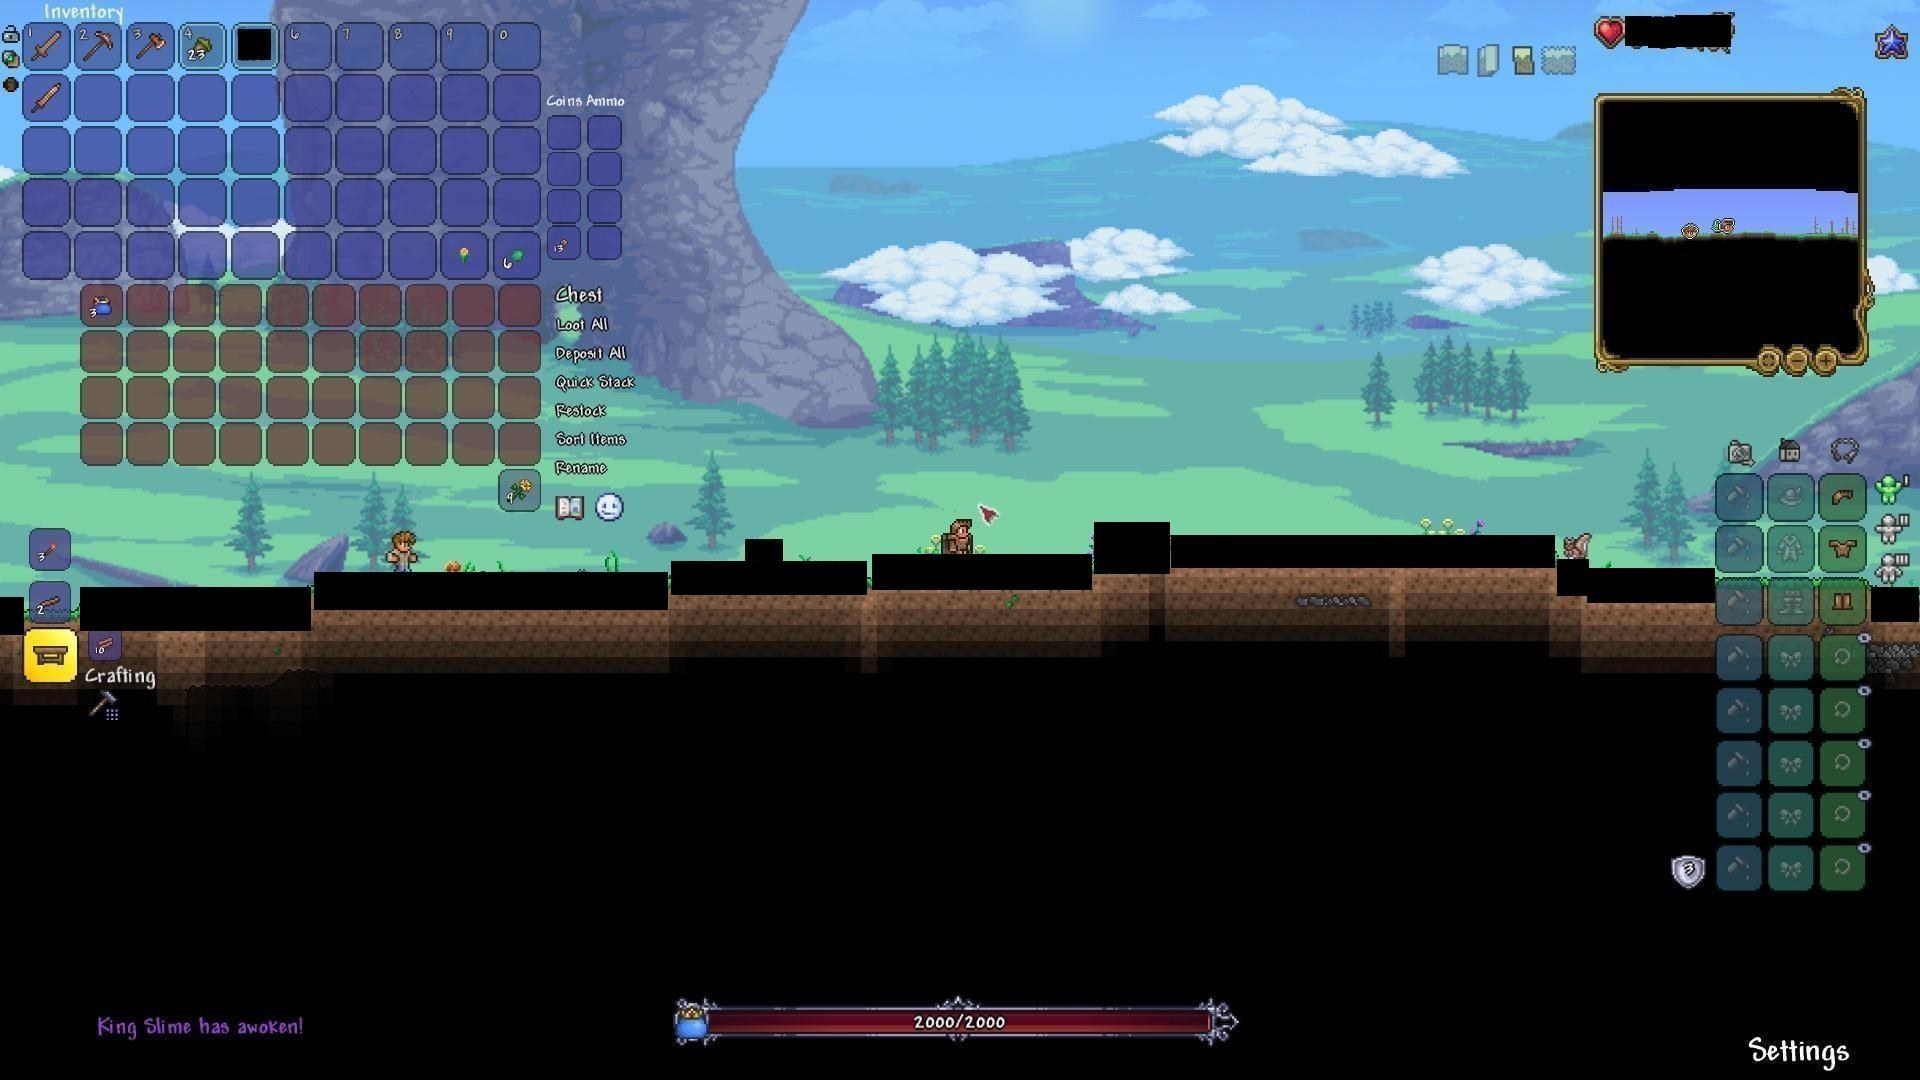breastplate: (1829, 537, 1859, 558)
heart: (1596, 15, 1625, 44)
helmet: (1826, 483, 1858, 512)
legs: (1832, 588, 1857, 617)
wood: (88, 629, 120, 659)
workbench: (33, 644, 65, 669)
